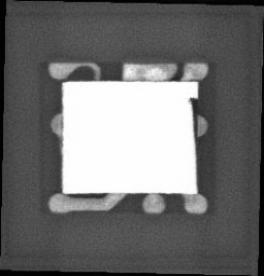DIE_BROKEN: (188, 95, 197, 144)
